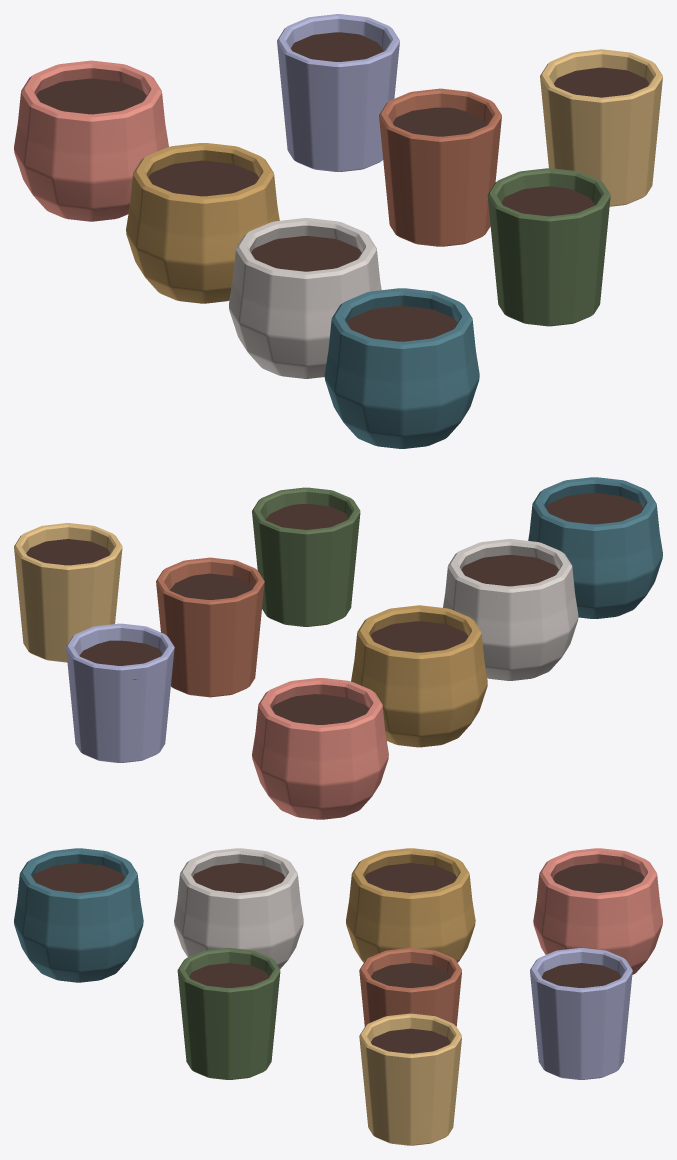
File: atoll_Pots.fbx
3 renders of one model, top to bottom at view 1: azimuth 30°, elevation 25°; view 2: azimuth 150°, elevation 25°; view 3: azimuth 270°, elevation 25°, orthographic. The views are drawn at different scales.
Visible parts, largest first — view 1: Empty_Pot_5, Empty_Pot_6, Empty_Pot_1, Empty_Pot_7, Empty_Pot_4, Empty_Pot_2, Empty_Pot_9, Empty_Pot_8, DIRT2, DIRT3, DIRT4, DIRT (+4 smaller); view 2: Empty_Pot_6, Empty_Pot_1, Empty_Pot_4, Empty_Pot_9, Empty_Pot_5, Empty_Pot_7, Empty_Pot_2, Empty_Pot_8, DIRT2, DIRT3, DIRT4, DIRT (+4 smaller); view 3: Empty_Pot_5, Empty_Pot_6, Empty_Pot_8, Empty_Pot_9, Empty_Pot_7, Empty_Pot_4, Empty_Pot_1, Empty_Pot_2, DIRT4, DIRT3, DIRT2, DIRT (+4 smaller).
Boxes of the visible parts, bbox=[...] form: Empty_Pot_5: bbox=[324, 288, 479, 448]; Empty_Pot_6: bbox=[14, 60, 168, 221]; Empty_Pot_1: bbox=[126, 143, 279, 303]; Empty_Pot_7: bbox=[487, 168, 610, 326]; Empty_Pot_4: bbox=[229, 218, 381, 378]; Empty_Pot_2: bbox=[379, 88, 501, 246]; Empty_Pot_9: bbox=[277, 14, 399, 171]; Empty_Pot_8: bbox=[540, 49, 662, 206]; DIRT2: bbox=[148, 160, 258, 196]; DIRT3: bbox=[251, 236, 361, 271]; DIRT4: bbox=[347, 306, 457, 341]; DIRT: bbox=[36, 78, 146, 114]; Empty_Pot_6: bbox=[252, 678, 388, 819]; Empty_Pot_1: bbox=[351, 605, 487, 747]; Empty_Pot_4: bbox=[443, 539, 578, 680]; Empty_Pot_9: bbox=[66, 623, 174, 762]; Empty_Pot_5: bbox=[528, 477, 662, 618]; Empty_Pot_7: bbox=[252, 487, 360, 626]; Empty_Pot_2: bbox=[156, 557, 264, 697]; Empty_Pot_8: bbox=[14, 523, 122, 662]; DIRT2: bbox=[370, 621, 467, 652]; DIRT3: bbox=[461, 555, 558, 586]; DIRT4: bbox=[546, 493, 643, 524]; DIRT: bbox=[271, 694, 369, 724]; Empty_Pot_5: bbox=[14, 848, 143, 982]; Empty_Pot_6: bbox=[533, 848, 662, 974]; Empty_Pot_8: bbox=[359, 1013, 461, 1145]; Empty_Pot_9: bbox=[530, 948, 632, 1079]; Empty_Pot_7: bbox=[177, 948, 280, 1079]; Empty_Pot_4: bbox=[174, 848, 303, 968]; Empty_Pot_1: bbox=[346, 848, 475, 962]; Empty_Pot_2: bbox=[359, 948, 461, 1026]; DIRT4: bbox=[32, 863, 124, 892]; DIRT3: bbox=[192, 863, 284, 892]; DIRT2: bbox=[364, 863, 456, 892]; DIRT: bbox=[553, 863, 644, 892].
Size of the model in its own units: 9.64 by 2.01 by 12.5.
